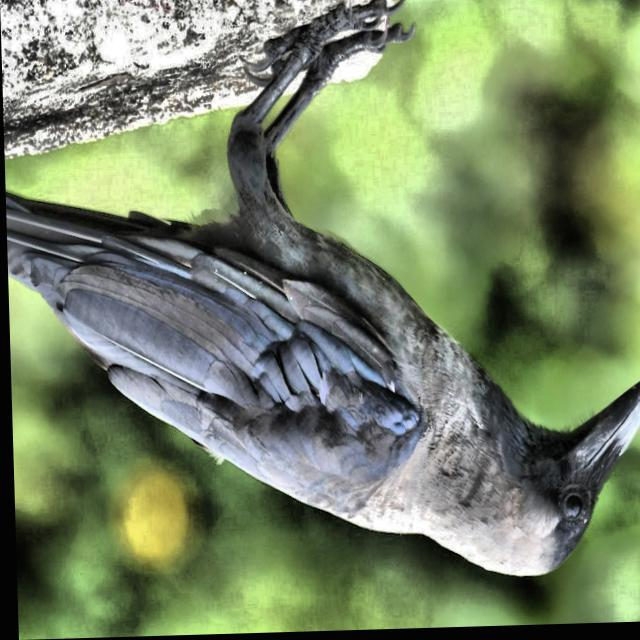crow: (1, 0, 640, 639)
